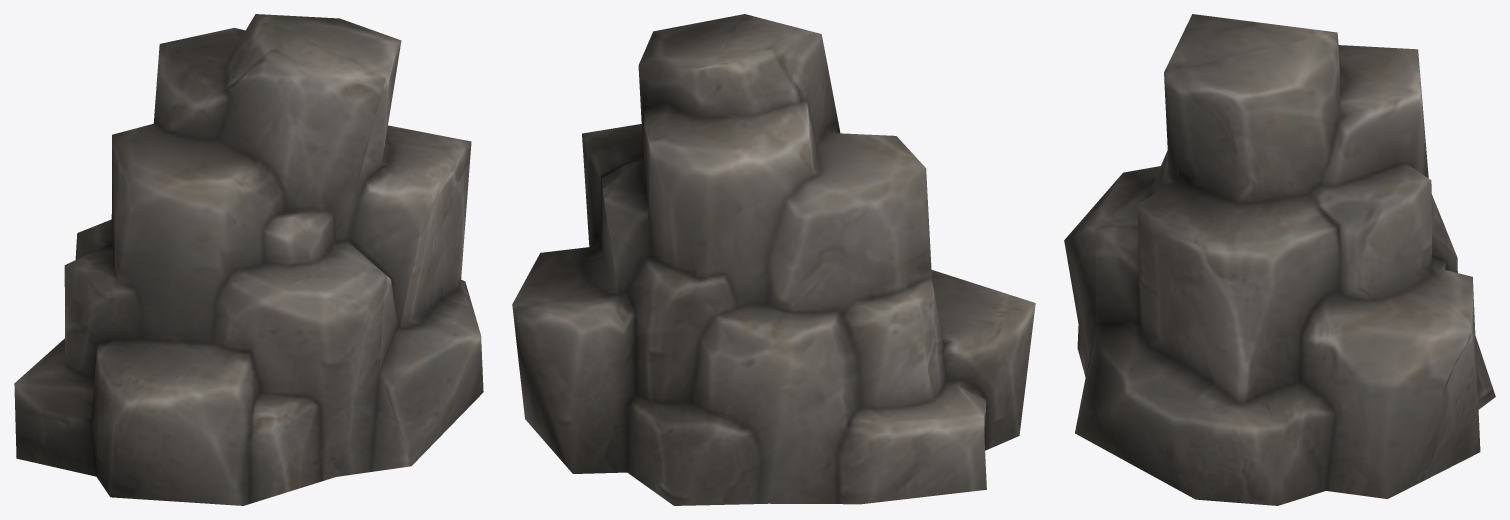
Rendered from Rock03.FBX.
The picture shows the model from 3 angles, left to right: view 1: azimuth 30°, elevation 25°; view 2: azimuth 150°, elevation 25°; view 3: azimuth 270°, elevation 25°; orthographic projection. The views are drawn at different scales.
Parts seen in each view (by area): view 1: Rock03; view 2: Rock03; view 3: Rock03.
Boxes of the visible parts, left/top/right/bottom form: Rock03: left=14, top=14, right=483, bottom=505; Rock03: left=512, top=14, right=1035, bottom=505; Rock03: left=1064, top=14, right=1495, bottom=505.
Size of the model in its own units: 5.15 by 4.17 by 4.1.
